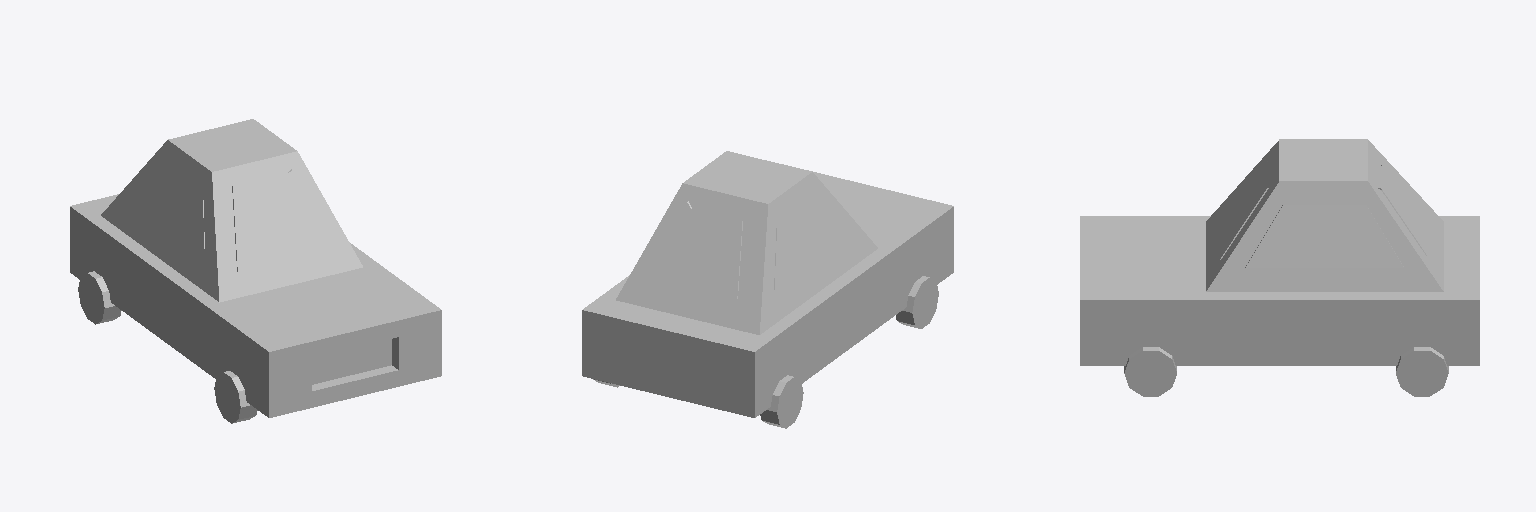
Rendered from Car.obj.
3 views of the same model, side by side, from view 1: azimuth 30°, elevation 25°; view 2: azimuth 150°, elevation 25°; view 3: azimuth 270°, elevation 25° (orthographic).
Visible parts, largest first — view 1: Cube.001; view 2: Cube.001; view 3: Cube.001.
Part boxes in pixels (x1,y1,x2,y2): Cube.001: (70, 119, 441, 423); Cube.001: (582, 151, 953, 428); Cube.001: (1080, 139, 1479, 396).
Size of the model in its own units: 0.4059 by 0.3936 by 0.75.